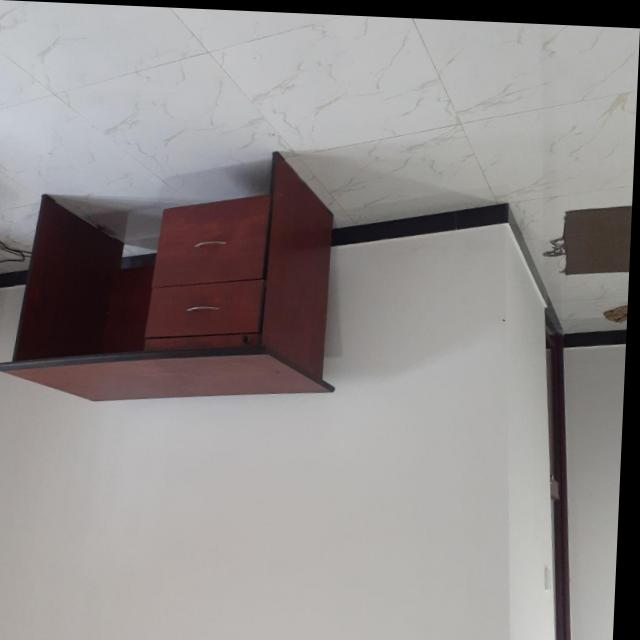Table: (0, 121, 368, 421)
